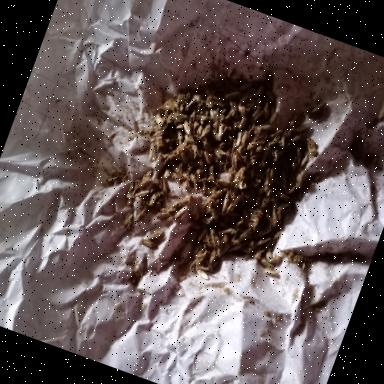pbw: (245, 82, 265, 114), (148, 117, 169, 146), (300, 136, 322, 162), (171, 188, 193, 214), (161, 108, 188, 128), (248, 96, 266, 125), (182, 91, 202, 116), (266, 227, 284, 253), (286, 120, 307, 142), (156, 96, 179, 116), (246, 133, 266, 155), (148, 113, 166, 137), (189, 245, 205, 272), (239, 83, 257, 107), (202, 90, 226, 108), (204, 228, 224, 249), (154, 206, 176, 225), (218, 190, 234, 216), (190, 168, 206, 194), (256, 141, 271, 168), (193, 248, 209, 273), (285, 129, 304, 150), (172, 202, 190, 224), (144, 142, 162, 164), (237, 76, 256, 96), (290, 144, 306, 167), (222, 87, 242, 105), (203, 204, 223, 222), (132, 204, 148, 226), (254, 231, 272, 250), (170, 90, 189, 108), (225, 240, 243, 259), (228, 152, 245, 172), (157, 201, 177, 218), (123, 184, 138, 206), (198, 136, 216, 154), (210, 184, 228, 202), (232, 165, 246, 188), (156, 176, 172, 196), (278, 193, 294, 212), (258, 221, 274, 240), (266, 206, 282, 225), (254, 118, 272, 134), (206, 246, 220, 266), (260, 168, 274, 188), (272, 189, 292, 203), (276, 248, 296, 262), (195, 226, 208, 247), (238, 208, 255, 224), (148, 226, 164, 243), (180, 118, 195, 136), (210, 146, 228, 161), (230, 192, 246, 208), (206, 106, 222, 122), (262, 90, 278, 106), (133, 186, 150, 201), (218, 240, 232, 258), (166, 172, 184, 186), (184, 194, 198, 212), (272, 146, 285, 165), (229, 226, 240, 248), (138, 174, 153, 190), (278, 129, 290, 149), (130, 177, 142, 197), (246, 190, 258, 210), (259, 256, 276, 270), (226, 101, 240, 118), (196, 184, 213, 198), (259, 102, 272, 120), (262, 267, 280, 280), (121, 210, 134, 228), (208, 129, 224, 143), (268, 132, 282, 148), (266, 254, 282, 268), (187, 218, 203, 232), (296, 171, 307, 191), (174, 163, 186, 181), (288, 112, 300, 130), (214, 240, 226, 258), (148, 190, 160, 208), (219, 224, 234, 238), (232, 130, 243, 149), (140, 238, 157, 250), (202, 260, 216, 274), (276, 170, 290, 184), (234, 104, 248, 118), (200, 150, 213, 165), (251, 247, 264, 262), (237, 114, 249, 130), (215, 122, 227, 138), (260, 194, 272, 210), (174, 130, 186, 146), (225, 201, 237, 217), (188, 144, 201, 158), (168, 162, 182, 175), (300, 152, 310, 170), (182, 229, 194, 244), (271, 176, 286, 188), (268, 110, 279, 126), (256, 182, 267, 198), (207, 180, 224, 190), (177, 152, 190, 165), (262, 249, 275, 262), (277, 200, 290, 213), (205, 166, 217, 180), (247, 153, 259, 167), (188, 158, 203, 169), (220, 159, 231, 174), (222, 148, 232, 164), (116, 168, 132, 178), (238, 244, 252, 255), (217, 220, 231, 231), (216, 178, 230, 188), (262, 186, 276, 196), (227, 182, 236, 197), (230, 186, 238, 202), (286, 180, 294, 195), (249, 166, 257, 178), (248, 179, 258, 188)
